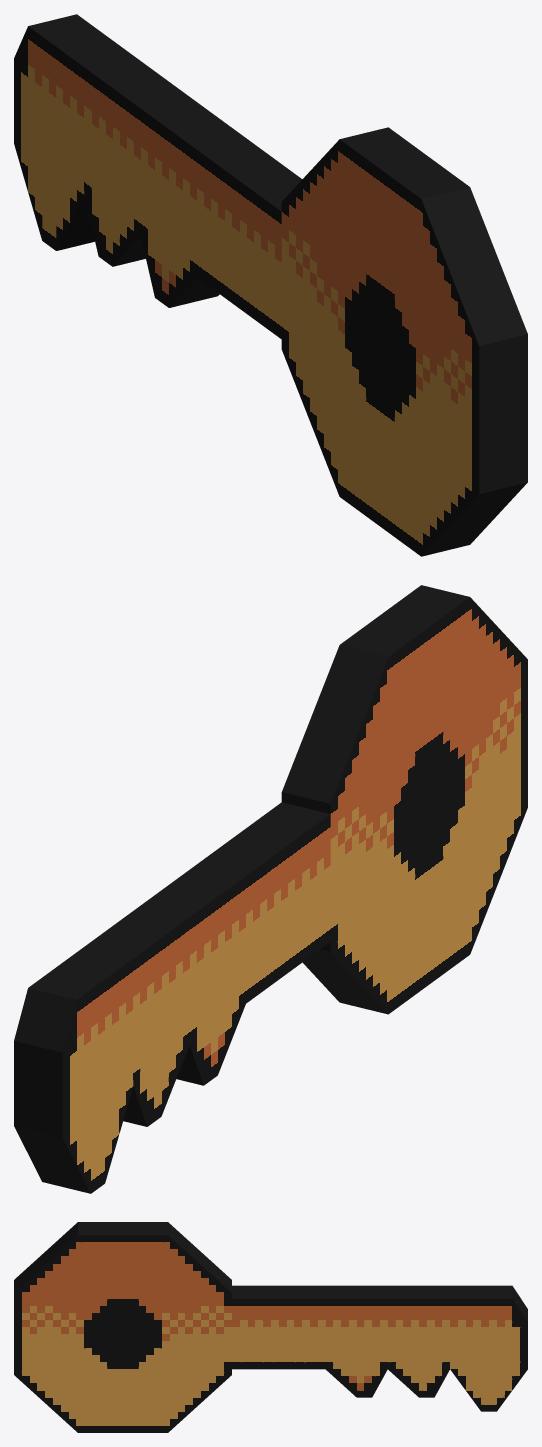
The model's file is key.gltf.
3 views of the same model, one above another, from view 1: azimuth 30°, elevation 25°; view 2: azimuth 150°, elevation 25°; view 3: azimuth 270°, elevation 25° (orthographic). The views are drawn at different scales.
Parts seen in each view (by area): view 1: cylinder, cuboid; view 2: cylinder, cuboid; view 3: cylinder, cuboid.
Boxes of the visible parts, x1,y1,x2,y2 form: cylinder: [281, 127, 527, 556]; cuboid: [14, 14, 302, 338]; cylinder: [281, 585, 527, 1014]; cuboid: [14, 802, 330, 1193]; cylinder: [14, 1222, 231, 1432]; cuboid: [232, 1285, 527, 1411].
Bounding box in the file's own units: 0.125 × 0.875 × 2.06.
Materials: 1 (1 with a texture image).
